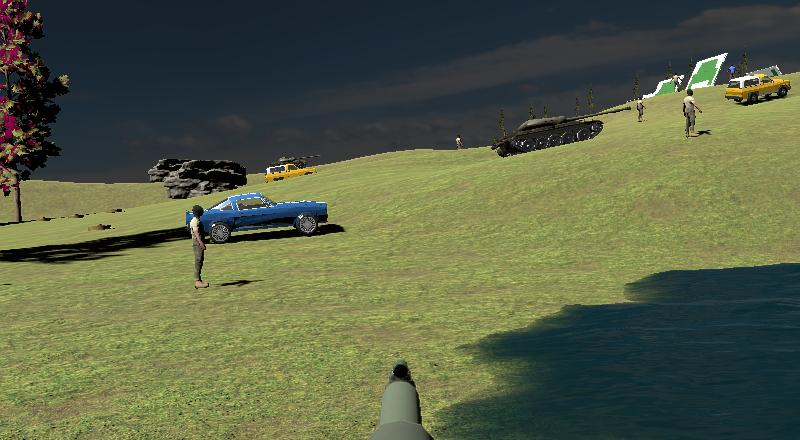Human: (681, 87, 704, 140)
Tank: (488, 98, 648, 160)
car: (185, 190, 329, 245), (723, 72, 792, 107), (264, 160, 319, 185)
